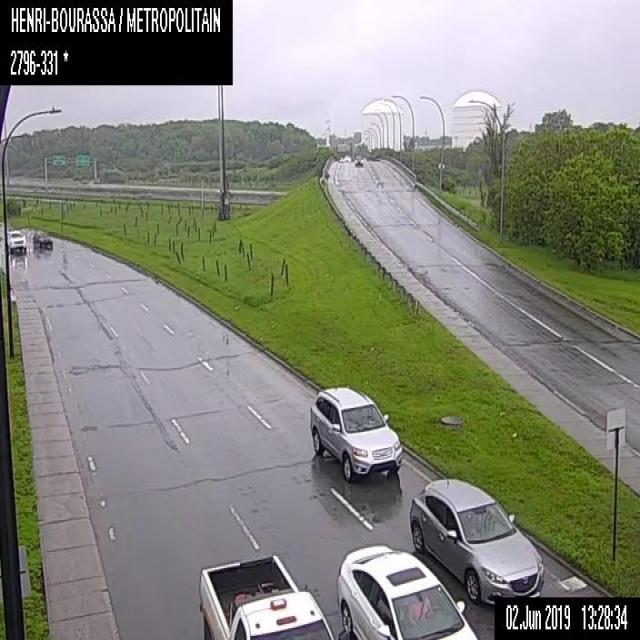vehicle: (407, 476, 543, 603), (334, 544, 477, 638), (197, 550, 333, 638), (309, 382, 403, 482), (6, 228, 26, 252), (32, 231, 52, 248), (352, 152, 362, 167), (343, 154, 349, 160)
